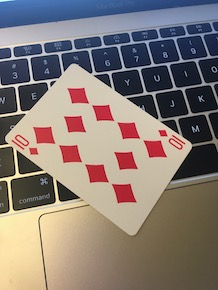TenOfDiamonds: (5, 61, 195, 237)
